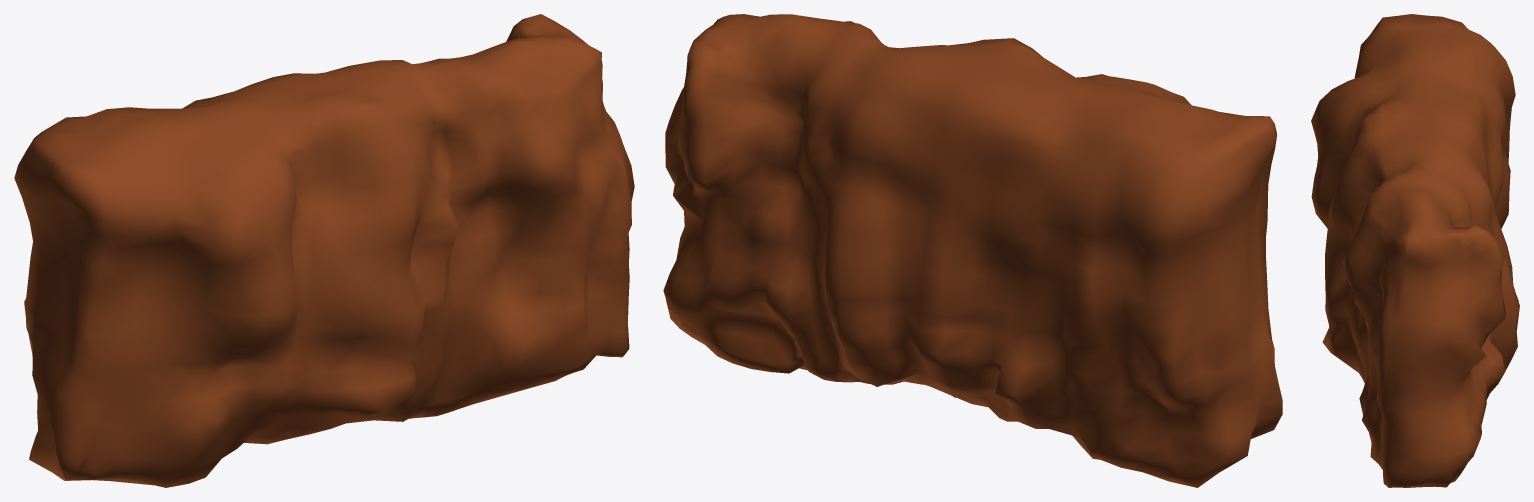
File: 3d_ENV_GEN_MOUNTAIN3LOW2.FBX
3 views of the same model, side by side, from view 1: azimuth 30°, elevation 25°; view 2: azimuth 150°, elevation 25°; view 3: azimuth 270°, elevation 25° (orthographic). The views are drawn at different scales.
Parts seen in each view (by area): view 1: 3D_GEN_ENV_MOUNTAIN3LOW2; view 2: 3D_GEN_ENV_MOUNTAIN3LOW2; view 3: 3D_GEN_ENV_MOUNTAIN3LOW2.
Part boxes in pixels (x1,y1,x2,y2): 3D_GEN_ENV_MOUNTAIN3LOW2: (14,14,634,487); 3D_GEN_ENV_MOUNTAIN3LOW2: (663,14,1282,487); 3D_GEN_ENV_MOUNTAIN3LOW2: (1311,14,1519,487).
Size of the model in its own units: 135 by 78.86 by 51.79.
